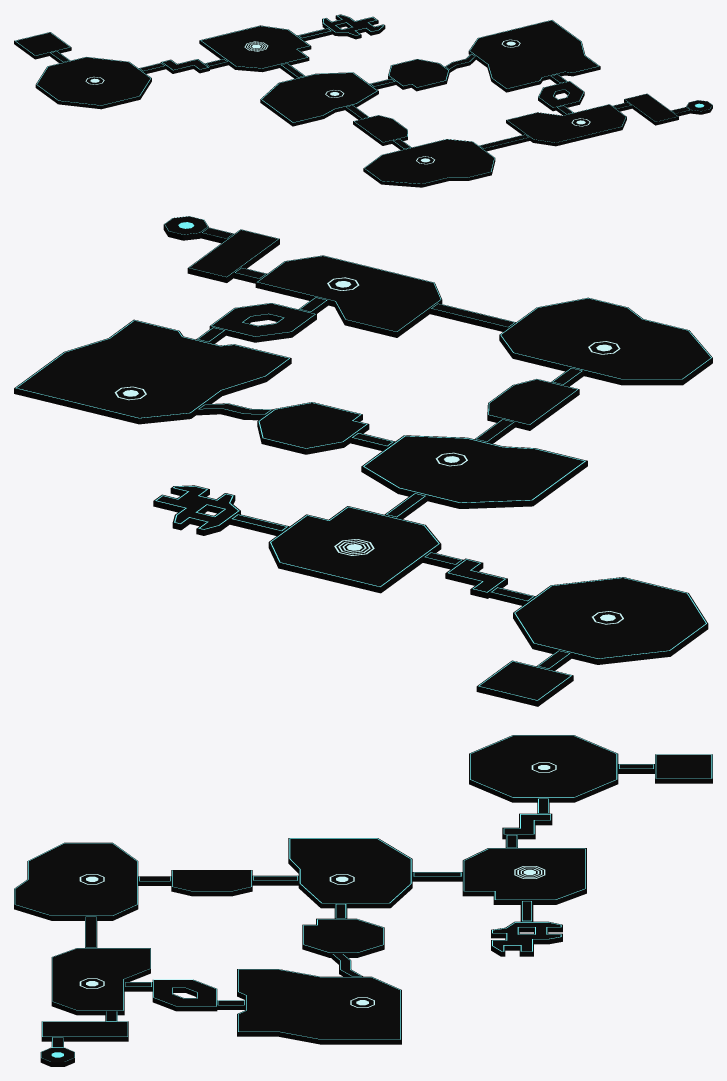
File: Caminho_Parte1_Blocagem.gltf
3 renders of one model, top to bottom at view 1: azimuth 30°, elevation 25°; view 2: azimuth 150°, elevation 25°; view 3: azimuth 270°, elevation 25°, orthographic. The views are drawn at different scales.
Visible parts, largest first — view 1: CaminhoBlocagem; view 2: CaminhoBlocagem; view 3: CaminhoBlocagem.
Part boxes in pixels (left/top/right/bottom): CaminhoBlocagem: left=14, top=14, right=712, bottom=187; CaminhoBlocagem: left=14, top=216, right=712, bottom=706; CaminhoBlocagem: left=14, top=735, right=712, bottom=1066.
Bounding box in the file's own units: 124 × 0.8257 × 112.
Materials: 3 (1 with a texture image).
